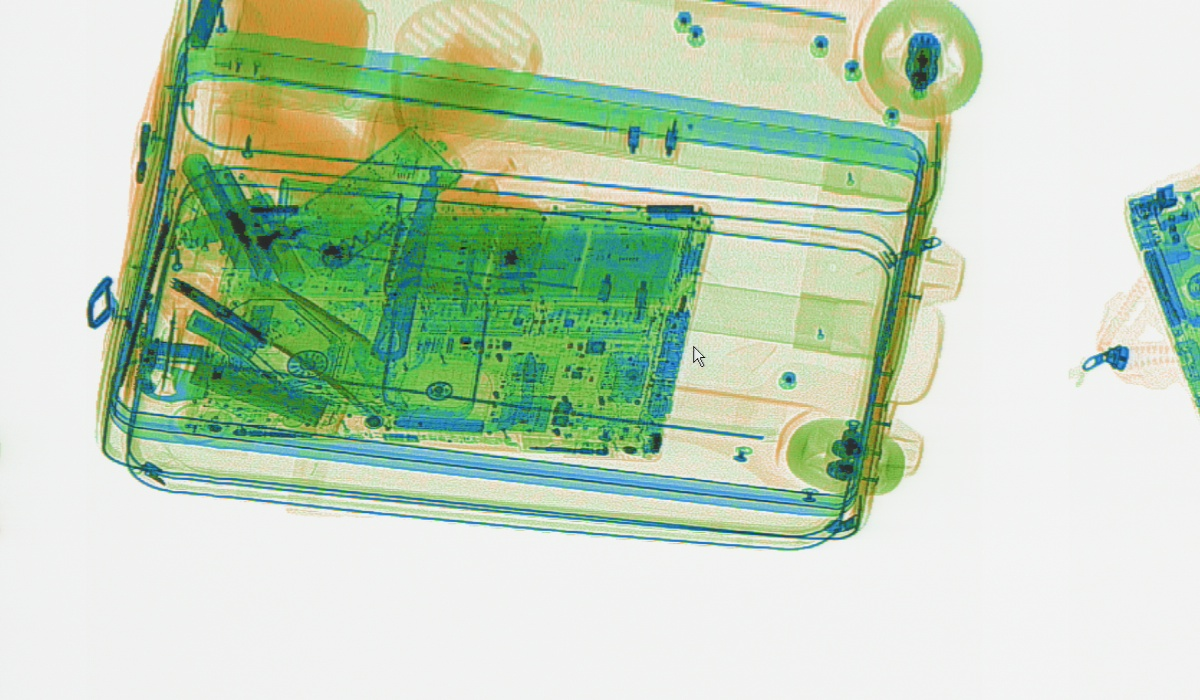knife: (167, 275, 271, 348)
powerbank: (176, 147, 313, 294)
